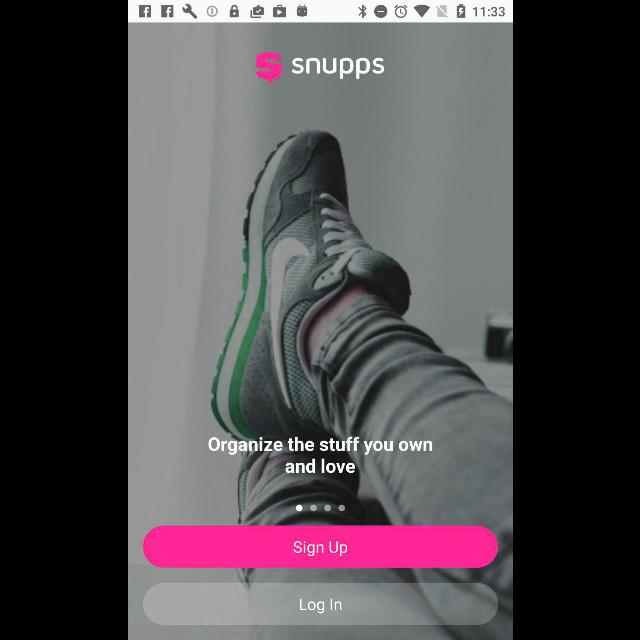backgroundimage: (128, 22, 512, 640)
image: (254, 52, 282, 84)
pageindicator: (295, 504, 345, 512)
text: (208, 436, 432, 474), (291, 58, 384, 80)
textbutton: (142, 582, 498, 626), (142, 526, 498, 568)
uppertaskbar: (128, 1, 512, 23)
